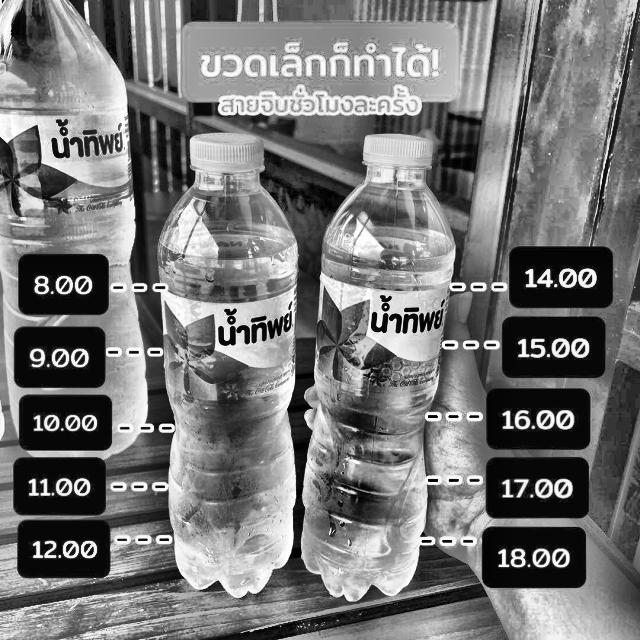waterbottle: (295, 124, 463, 608), (152, 123, 302, 604)
